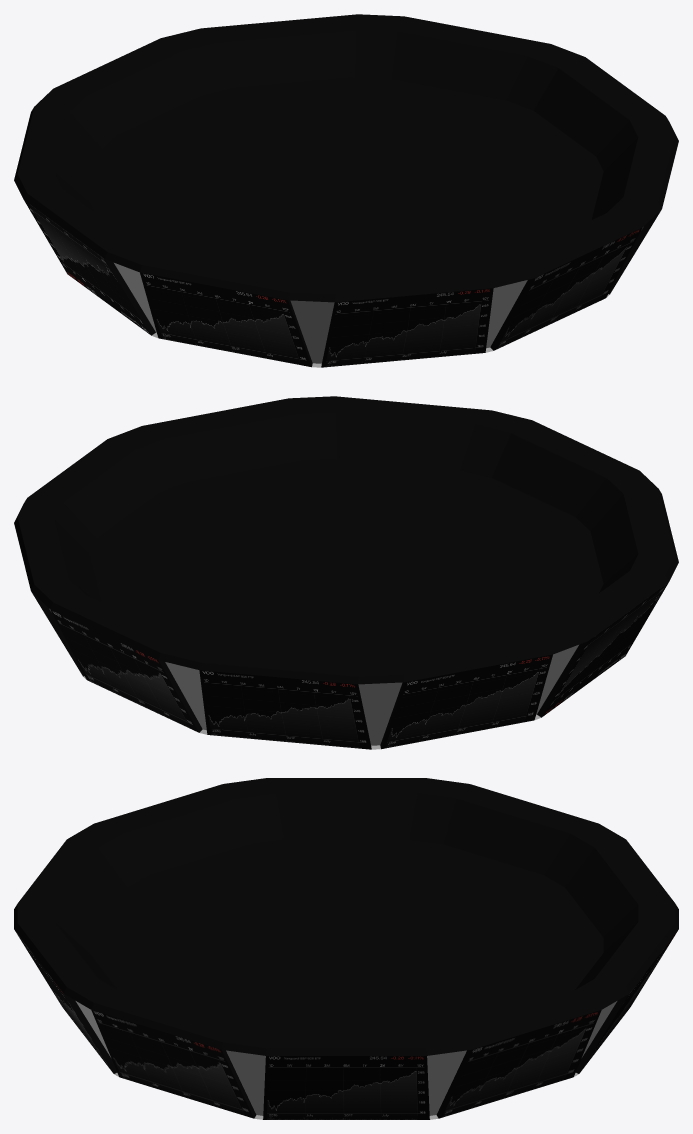
The model's file is kiosk_3.glb.
3 views of the same model, one above another, from view 1: azimuth 30°, elevation 25°; view 2: azimuth 150°, elevation 25°; view 3: azimuth 270°, elevation 25° (orthographic).
Visible parts, largest first — view 1: Cylinder.010; view 2: Cylinder.010; view 3: Cylinder.010.
Part boxes in pixels (x1=…): Cylinder.010: x1=14, y1=14, x2=678, y2=367; Cylinder.010: x1=14, y1=396, x2=678, y2=749; Cylinder.010: x1=14, y1=778, x2=678, y2=1119.
Size of the model in its own units: 3.12 by 0.4896 by 3.21.
Materials: 4 (1 with a texture image).
